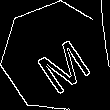M_NW: (23, 23, 89, 91)
